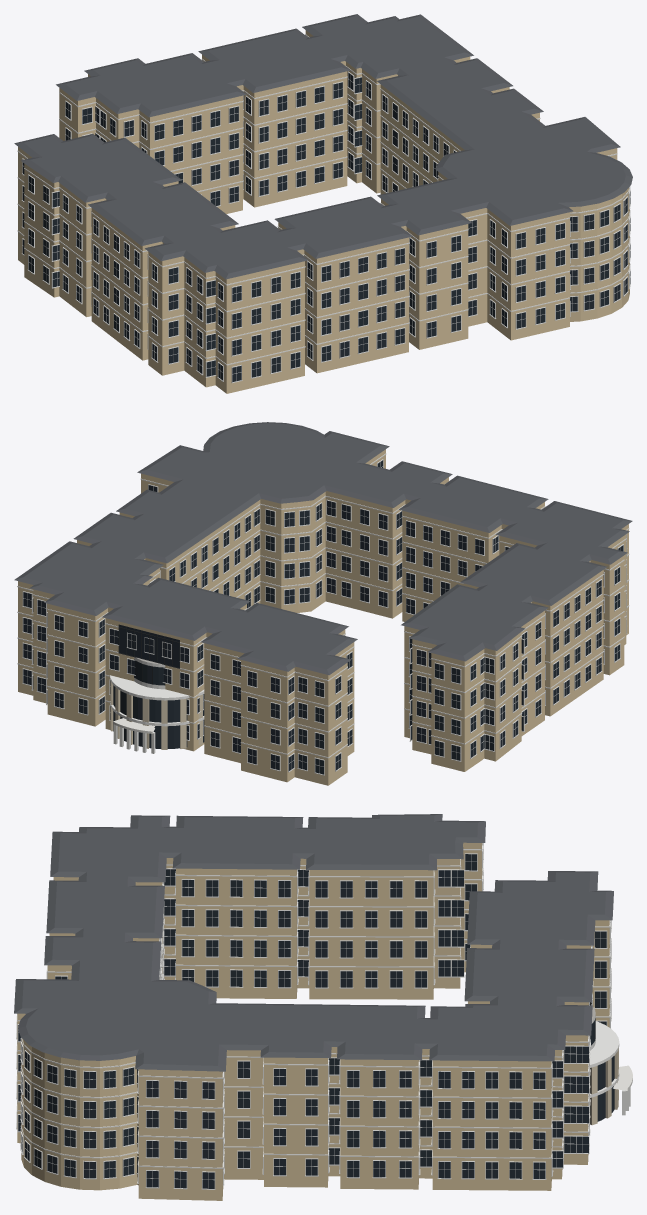
The model's file is sirius_hall.glb.
3 views of the same model, one above another, from view 1: azimuth 30°, elevation 25°; view 2: azimuth 150°, elevation 25°; view 3: azimuth 270°, elevation 25° (orthographic). The views are drawn at different scales.
Visible parts, largest first — view 1: sirius_hall_Wall_beigeStucco, sirius_hall_Roof_Shingle, sirius_hall_Trim_White, sirius_hall_Glass_dark; view 2: sirius_hall_Roof_Shingle, sirius_hall_Wall_beigeStucco, sirius_hall_Glass_dark, sirius_hall_Trim_White, sirius_hall_Wall_limestone, sirius_hall_Frame_Dark; view 3: sirius_hall_Roof_Shingle, sirius_hall_Wall_beigeStucco, sirius_hall_Glass_dark, sirius_hall_Trim_White, sirius_hall_Wall_limestone.
Part boxes in pixels (box(x1,y1,x2,y2)): sirius_hall_Wall_beigeStucco: box(18, 30, 629, 393); sirius_hall_Roof_Shingle: box(14, 14, 632, 279); sirius_hall_Trim_White: box(17, 34, 630, 383); sirius_hall_Glass_dark: box(22, 73, 630, 382); sirius_hall_Roof_Shingle: box(14, 422, 632, 675); sirius_hall_Wall_beigeStucco: box(18, 449, 628, 785); sirius_hall_Glass_dark: box(23, 460, 623, 774); sirius_hall_Trim_White: box(17, 453, 629, 775); sirius_hall_Wall_limestone: box(110, 681, 202, 749); sirius_hall_Frame_Dark: box(118, 625, 179, 685); sirius_hall_Roof_Shingle: box(14, 814, 613, 1071); sirius_hall_Wall_beigeStucco: box(17, 842, 609, 1200); sirius_hall_Glass_dark: box(18, 854, 614, 1188); sirius_hall_Trim_White: box(16, 843, 630, 1189); sirius_hall_Wall_limestone: box(590, 1048, 618, 1125).
Size of the model in its own units: 92.09 by 22.15 by 93.5.
